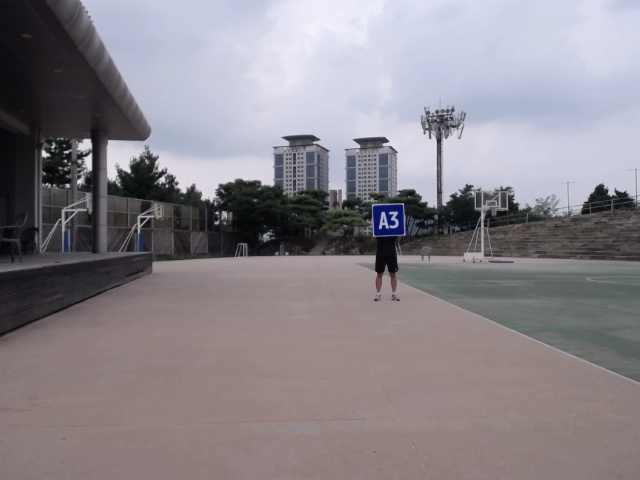delivery_a3: (373, 203, 404, 236)
